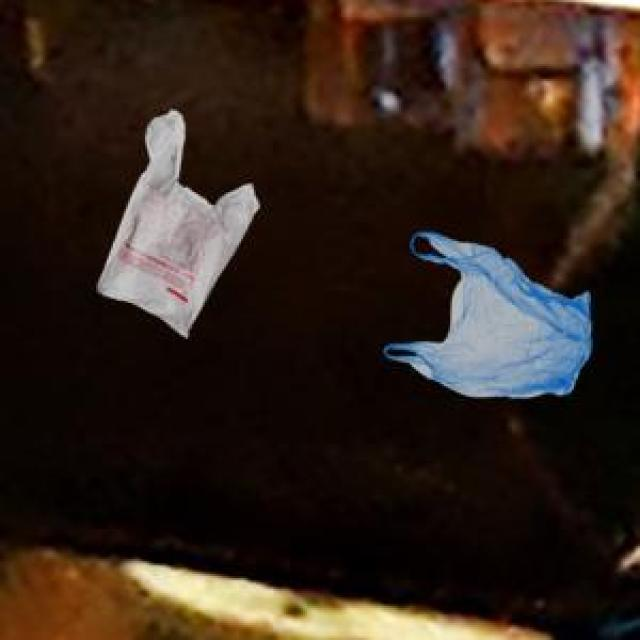Vinyl: (98, 110, 260, 337), (382, 231, 592, 398)
